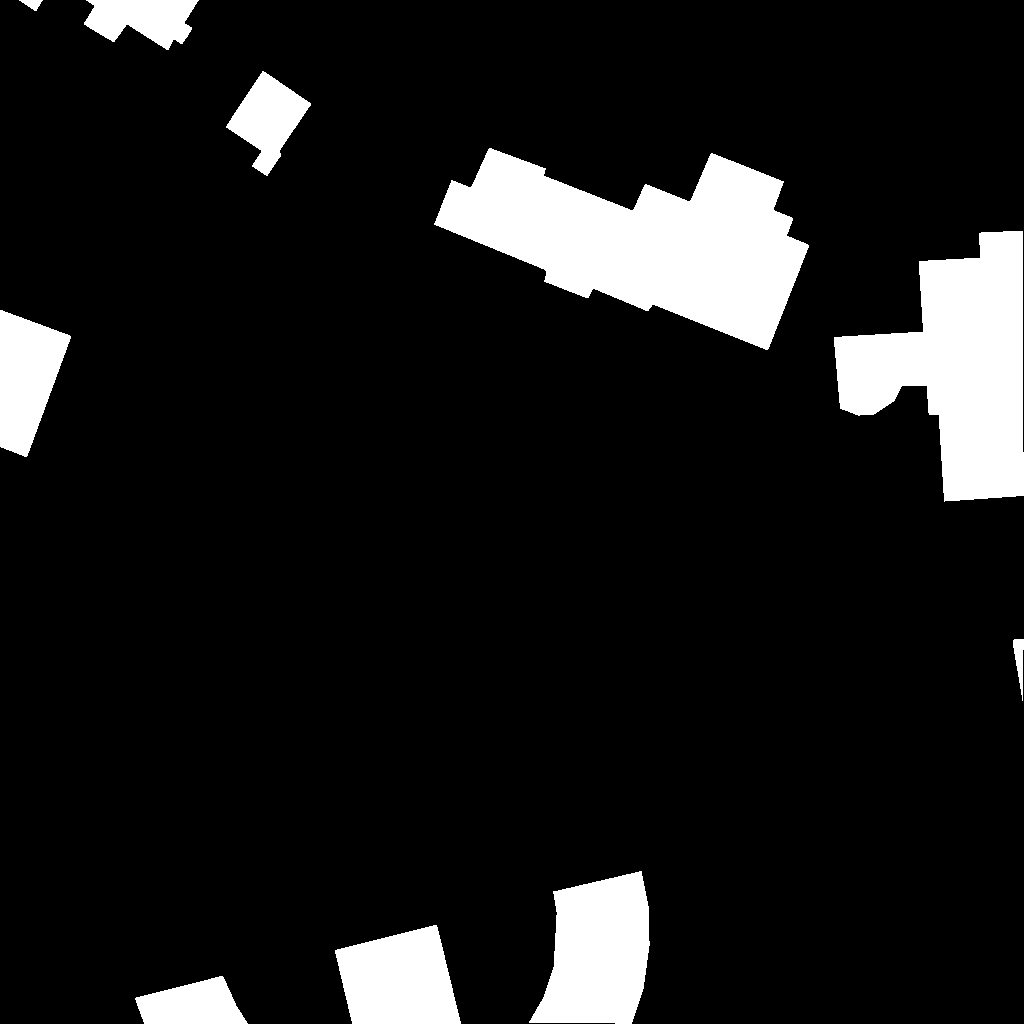building: (135, 871, 650, 1024), (434, 148, 810, 351), (834, 231, 1024, 502), (0, 310, 72, 458), (19, 0, 200, 51), (226, 71, 312, 177), (1013, 639, 1024, 704)
